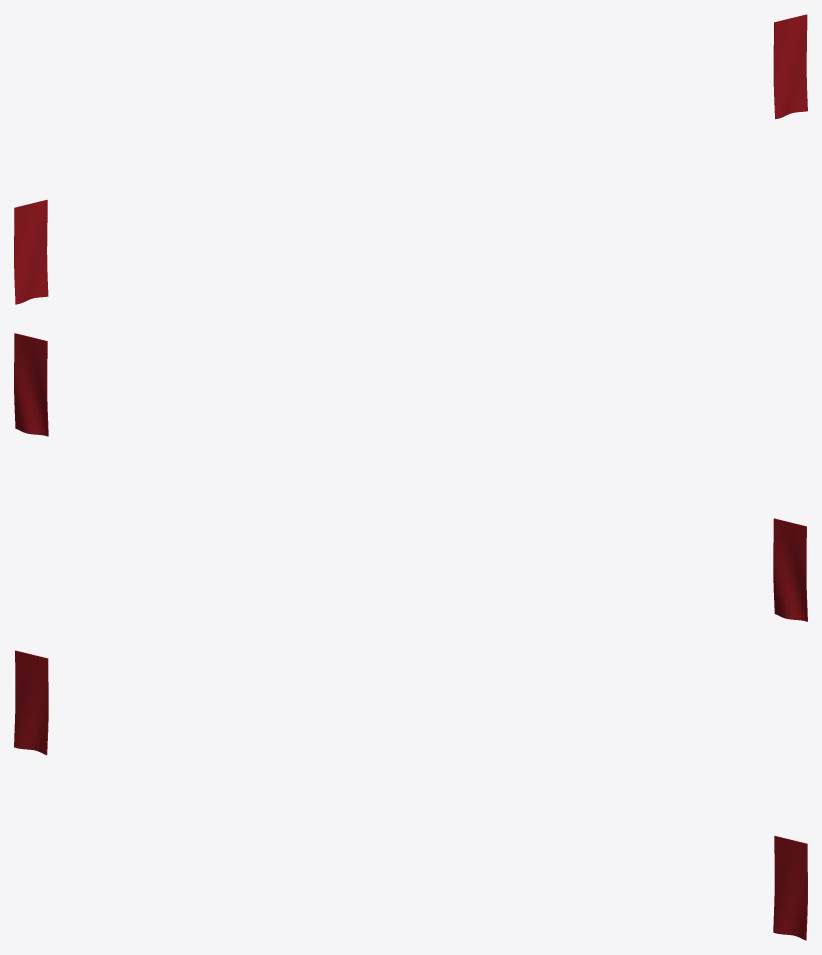
File: GateBanners.fbx
The picture shows the model from 3 angles, top to bottom: view 1: azimuth 30°, elevation 25°; view 2: azimuth 150°, elevation 25°; view 3: azimuth 330°, elevation 25°; orthographic projection.
Visible parts, largest first — view 1: GateBanner-1.001; view 2: GateBanner-1.001; view 3: GateBanner-1.001.
Part boxes in pixels (bbox=[...]): GateBanner-1.001: bbox=[14, 14, 807, 304]; GateBanner-1.001: bbox=[14, 333, 807, 621]; GateBanner-1.001: bbox=[14, 650, 807, 940].
Size of the model in its own units: 12104 by 1401 by 71.59.
